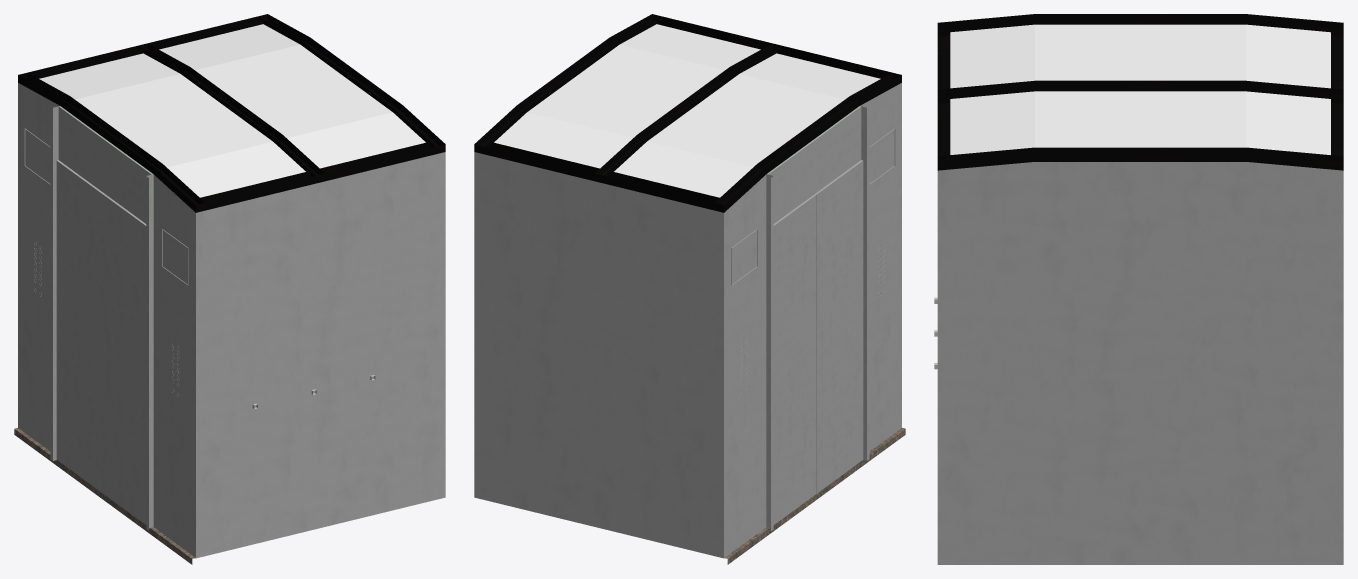
File: LGSeochoElevator.fbx
The picture shows the model from 3 angles, left to right: view 1: azimuth 30°, elevation 25°; view 2: azimuth 150°, elevation 25°; view 3: azimuth 270°, elevation 25°; orthographic projection. The views are drawn at different scales.
Visible parts, largest first — view 1: LGSeochoElevatorMetal (×3), LGSeochoLightHead, LGSeochoElevatorMetal1, LGSeochoB1Metal, LGSeochoElevatorFloor; view 2: LGSeochoElevatorMetal (×3), LGSeochoLightHead, LGSeochoElevatorMetal1, LGSeochoB1Metal, LGSeochoElevatorFloor; view 3: LGSeochoElevatorMetal, LGSeochoLightHead, LGSeochoB1Metal.
Part boxes in pixels (x1=…): LGSeochoElevatorMetal (×3): x1=18, y1=83, x2=445, y2=558; LGSeochoLightHead: x1=39, y1=24, x2=425, y2=197; LGSeochoElevatorMetal1: x1=103, y1=194, x2=153, y2=527; LGSeochoB1Metal: x1=18, y1=14, x2=445, y2=212; LGSeochoElevatorFloor: x1=14, y1=428, x2=195, y2=564; LGSeochoElevatorMetal (×3): x1=474, y1=83, x2=901, y2=558; LGSeochoLightHead: x1=494, y1=24, x2=880, y2=197; LGSeochoElevatorMetal1: x1=815, y1=160, x2=863, y2=493; LGSeochoB1Metal: x1=474, y1=14, x2=901, y2=212; LGSeochoElevatorFloor: x1=724, y1=428, x2=905, y2=564; LGSeochoElevatorMetal: x1=937, y1=162, x2=1343, y2=564; LGSeochoLightHead: x1=950, y1=24, x2=1330, y2=154; LGSeochoB1Metal: x1=937, y1=14, x2=1343, y2=170.
Size of the model in its own units: 175 by 239 by 212.
5 materials, 4 textured.
